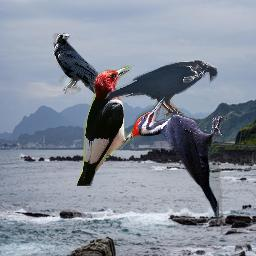Crow: (104, 59, 218, 118), (53, 33, 118, 95)
Woodpecker: (132, 97, 227, 231), (74, 65, 134, 186)
